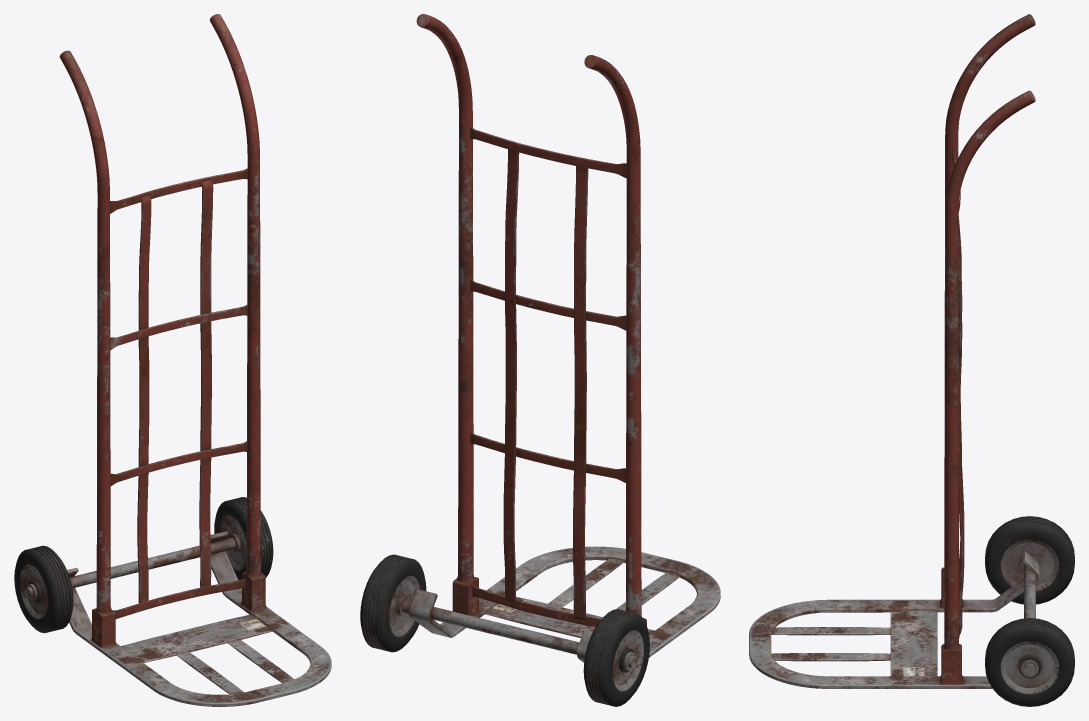
Rendered from carrinho.glb.
The picture shows the model from 3 angles, left to right: view 1: azimuth 30°, elevation 25°; view 2: azimuth 150°, elevation 25°; view 3: azimuth 270°, elevation 25°; orthographic projection. The views are drawn at different scales.
Visible parts, largest first — view 1: carrinho; view 2: carrinho; view 3: carrinho.
Boxes of the visible parts, left/top/right/bottom form: carrinho: left=14, top=14, right=331, bottom=706; carrinho: left=360, top=14, right=720, bottom=706; carrinho: left=749, top=14, right=1074, bottom=706.
Bounding box in the file's own units: 0.5933 × 1.4 × 0.6923.
1 material, 1 textured.
